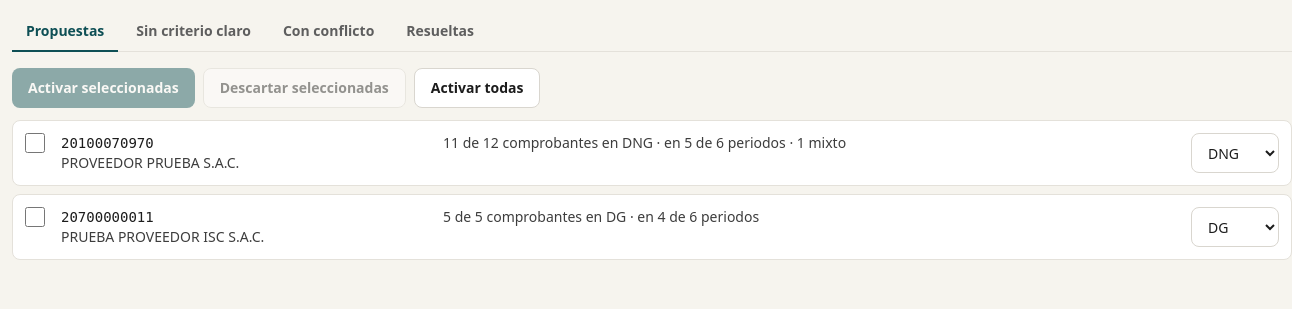
Test case: <CandidatasImportadas /> · activar y descartar (CA-3, D-5) › descartar la seleccionada manda {ids}, anuncia y no crea reglas
Expected: the button "Descartar seleccionadas" is disabled, [203,68,406,108]
Click the checkbox named "Seleccionar candidata de 20700000011": x=35, y=217 [25,207,45,227]
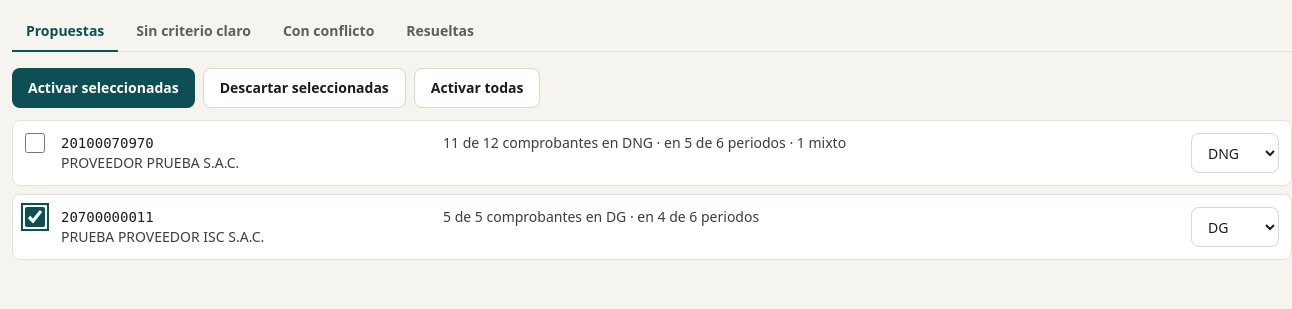
Click the button "Descartar seleccionadas": x=304, y=88 [203,68,406,108]
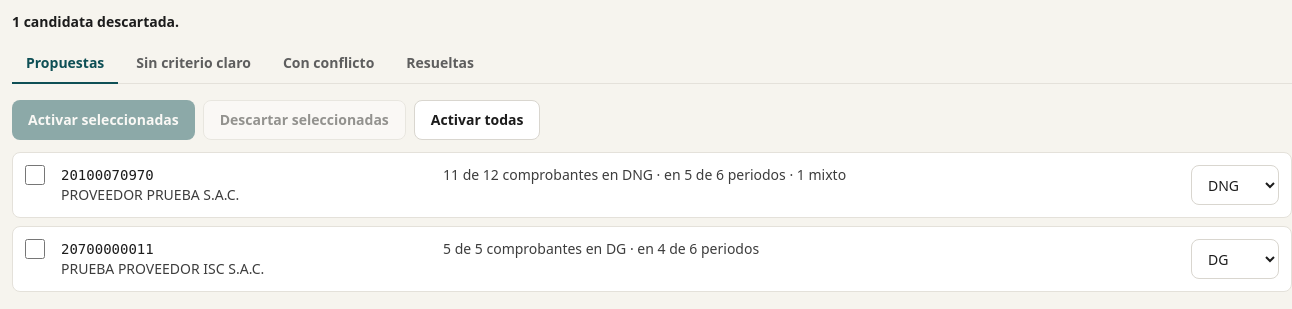
Expected: the text "1 candidata descartada." is shown, [12,12,179,31]
